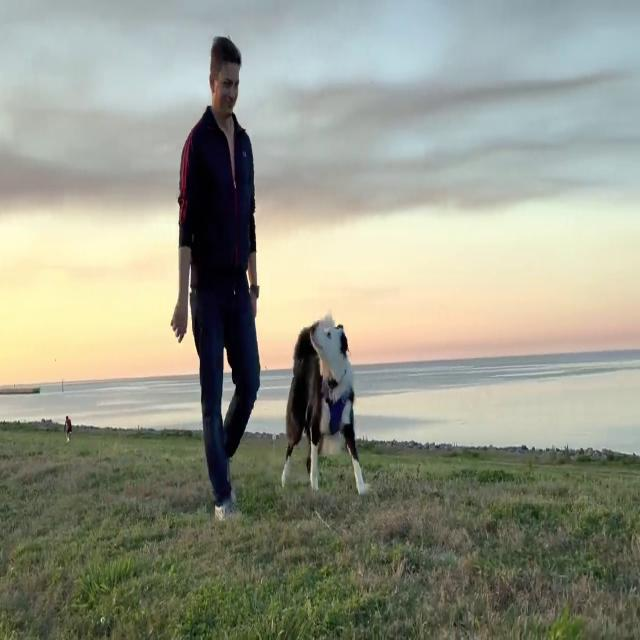Unleashed_Dog: (207, 285, 372, 496)
